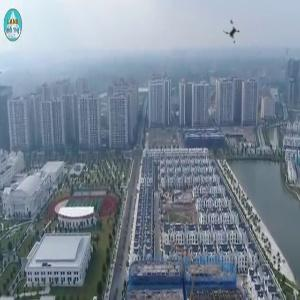drone: (210, 10, 257, 57)
